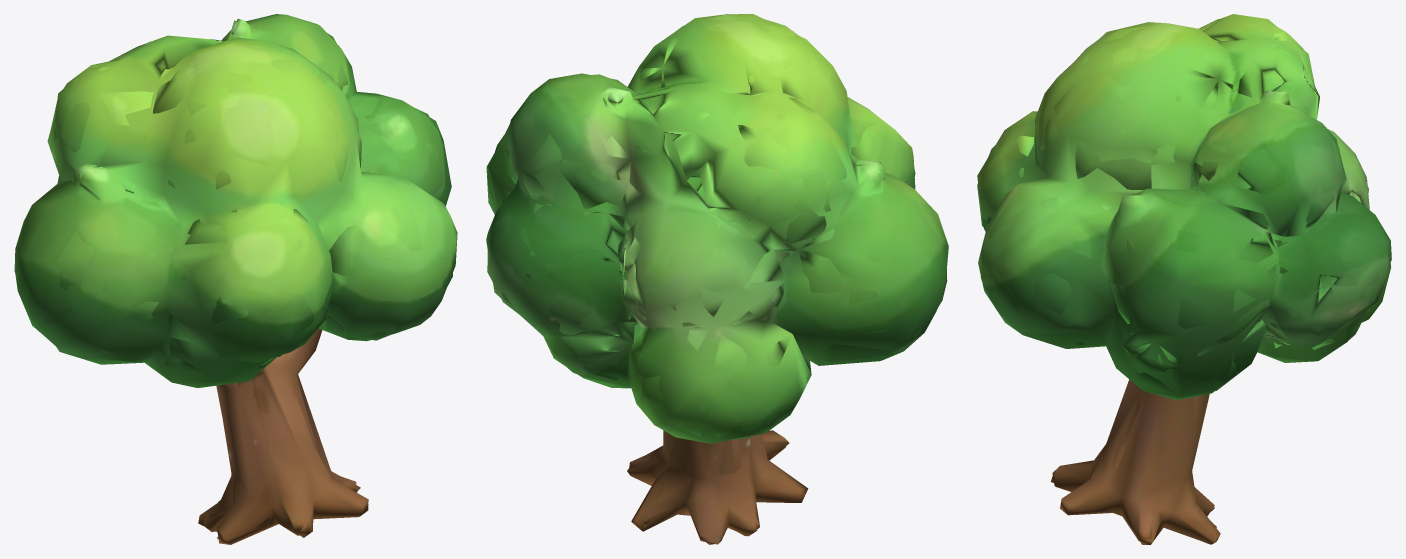
Rendered from shade-tree.glb.
3 views of the same model, side by side, from view 1: azimuth 30°, elevation 25°; view 2: azimuth 150°, elevation 25°; view 3: azimuth 270°, elevation 25° (orthographic). The views are drawn at different scales.
Size of the model in its own units: 2.9 by 3.2 by 2.51.
Materials: 1 (1 with a texture image).
